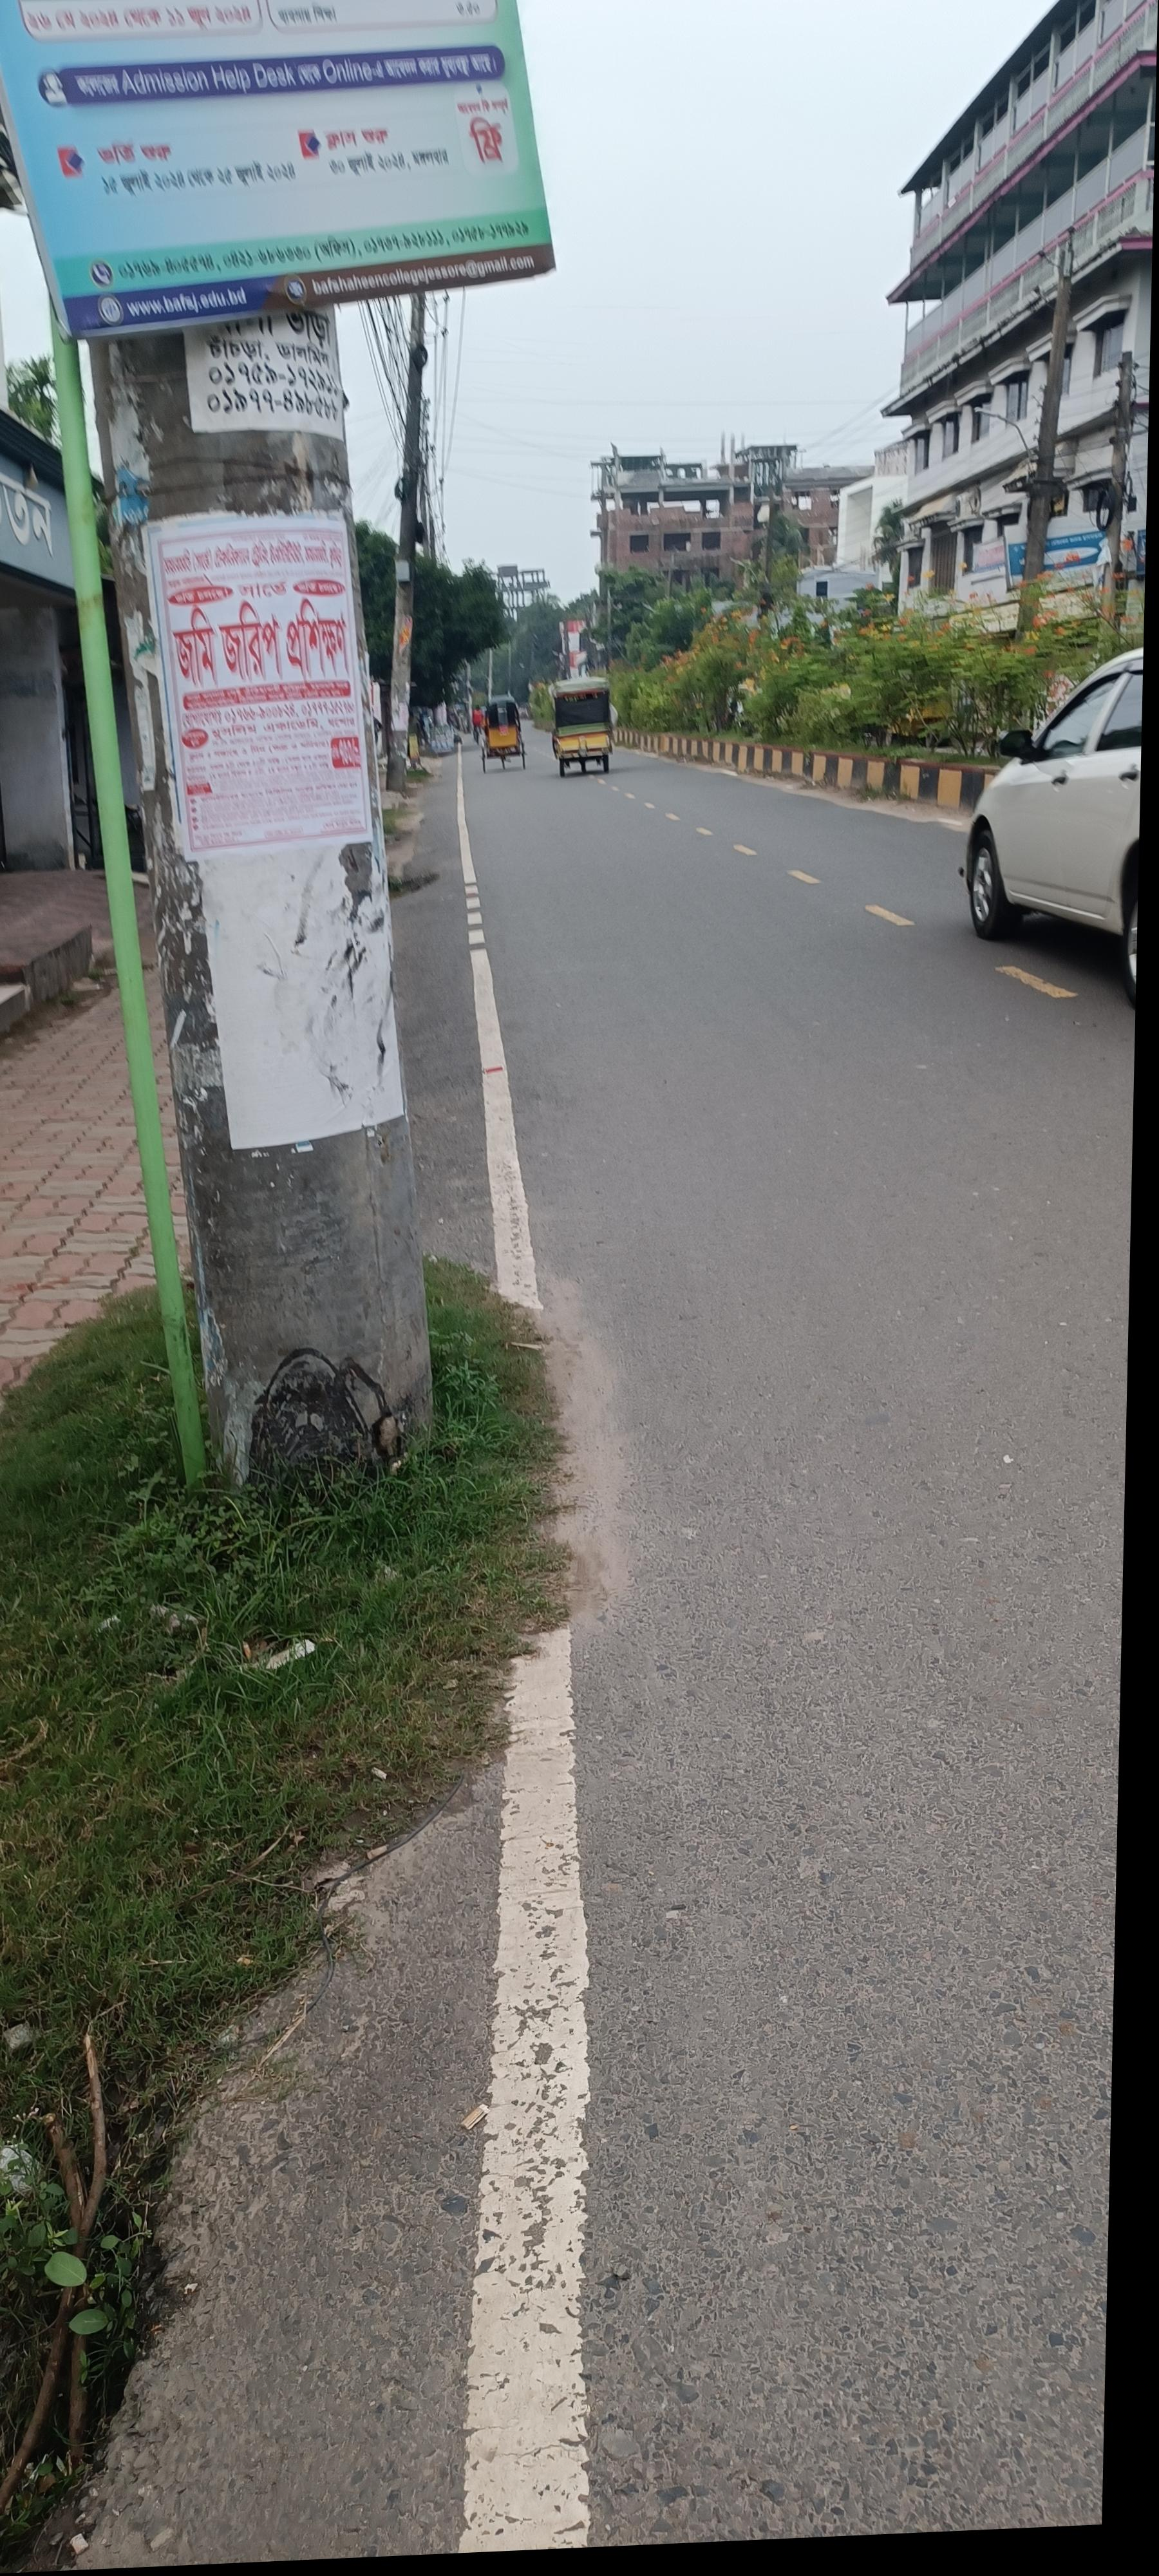Construction-barrier: (681, 715, 921, 846)
Light-pole: (13, 296, 555, 1467)
Traffic-cone: (929, 662, 1148, 1028), (553, 682, 619, 782), (484, 700, 529, 770)
